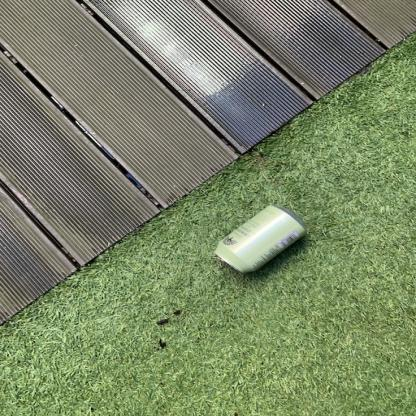trash: (216, 203, 316, 282)
